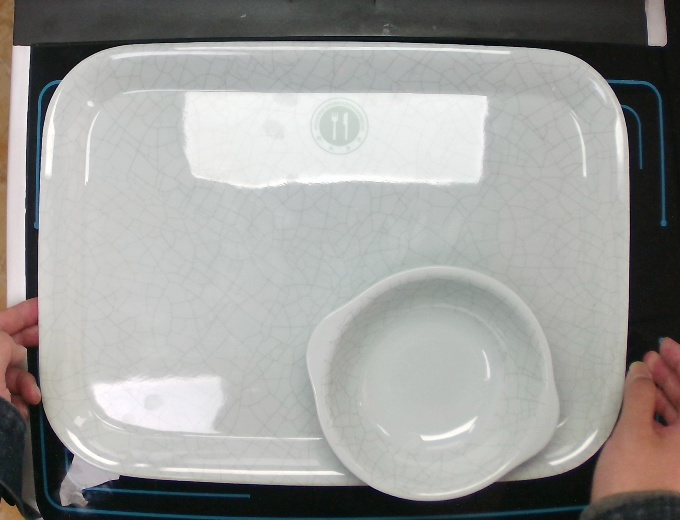JYsf-Shuang_Er_Wan: (303, 262, 562, 503)
